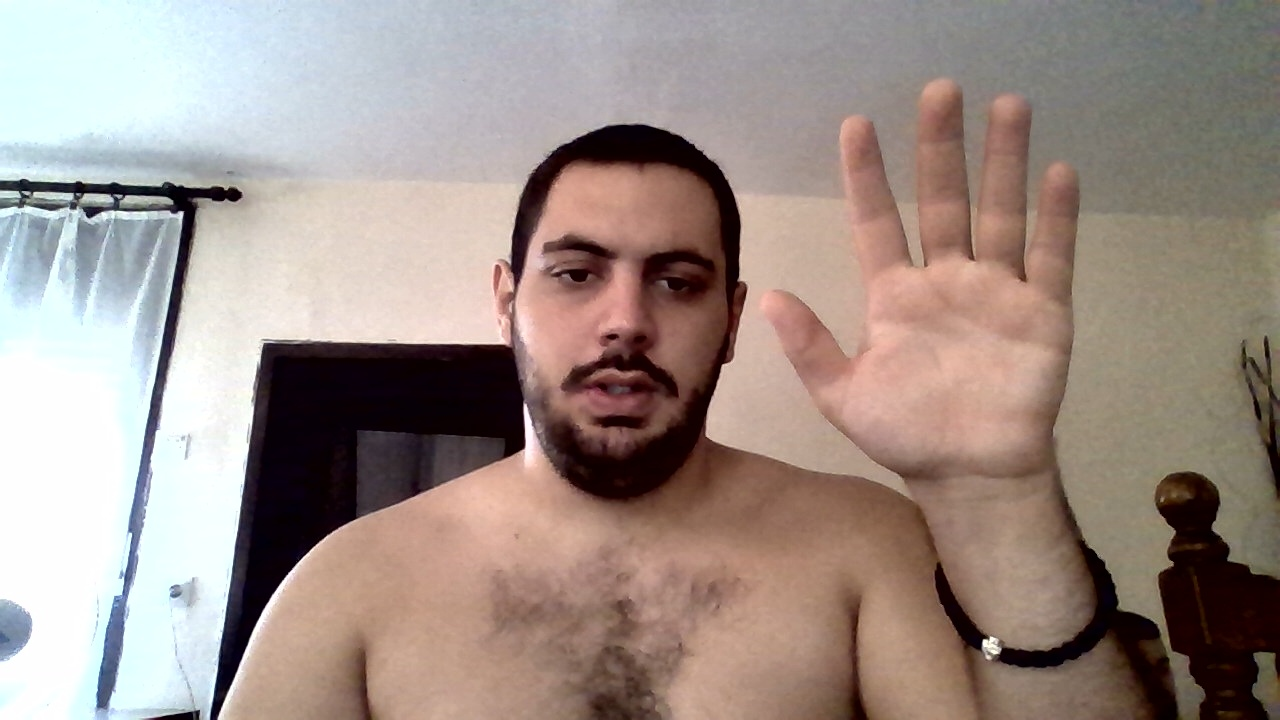palm: (761, 78, 1084, 467)
